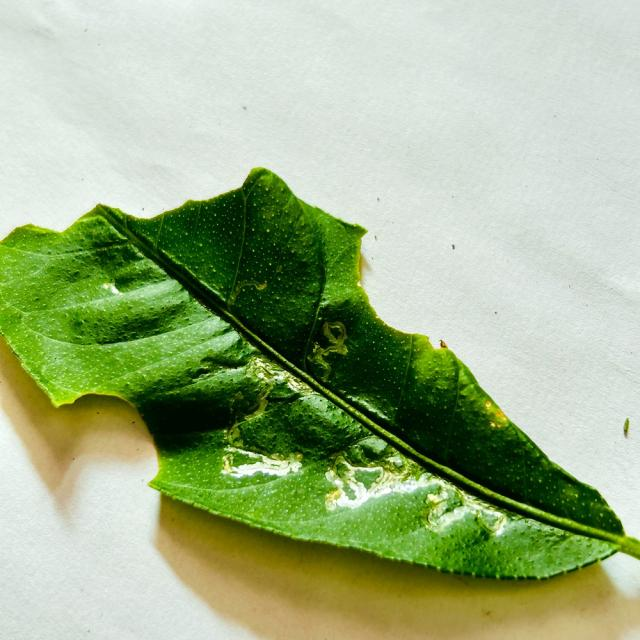Deficiency Leaf: (0, 122, 254, 238), (362, 221, 500, 356), (44, 395, 157, 506)
Lemon: (3, 169, 623, 577)
